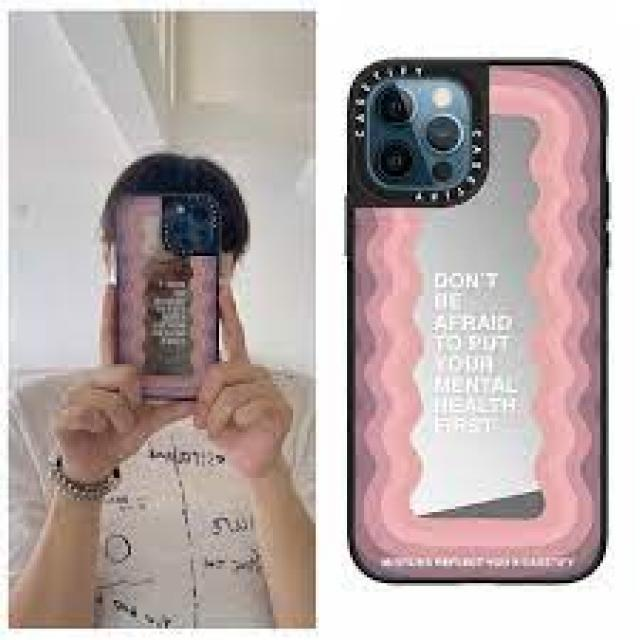Phone: (342, 55, 610, 581), (113, 191, 220, 402)
